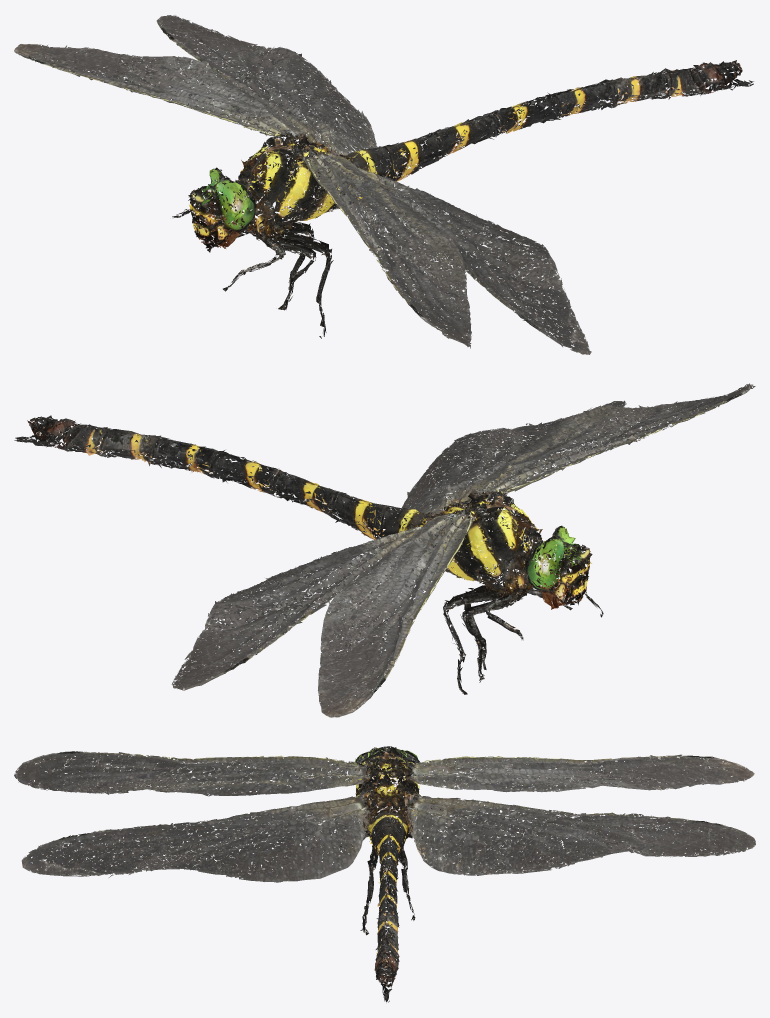
File: scan_dragonfly.glb
3 views of the same model, one above another, from view 1: azimuth 30°, elevation 25°; view 2: azimuth 150°, elevation 25°; view 3: azimuth 270°, elevation 25° (orthographic). The views are drawn at different scales.
Parts seen in each view (by area): view 1: scan; view 2: scan; view 3: scan.
Boxes of the visible parts, x1=… form: scan: x1=14, y1=15, x2=753, y2=354; scan: x1=14, y1=383, x2=755, y2=717; scan: x1=14, y1=746, x2=755, y2=1002.
Size of the model in its own units: 6.03 by 1.99 by 7.93.
Materials: 2 (2 with a texture image).
